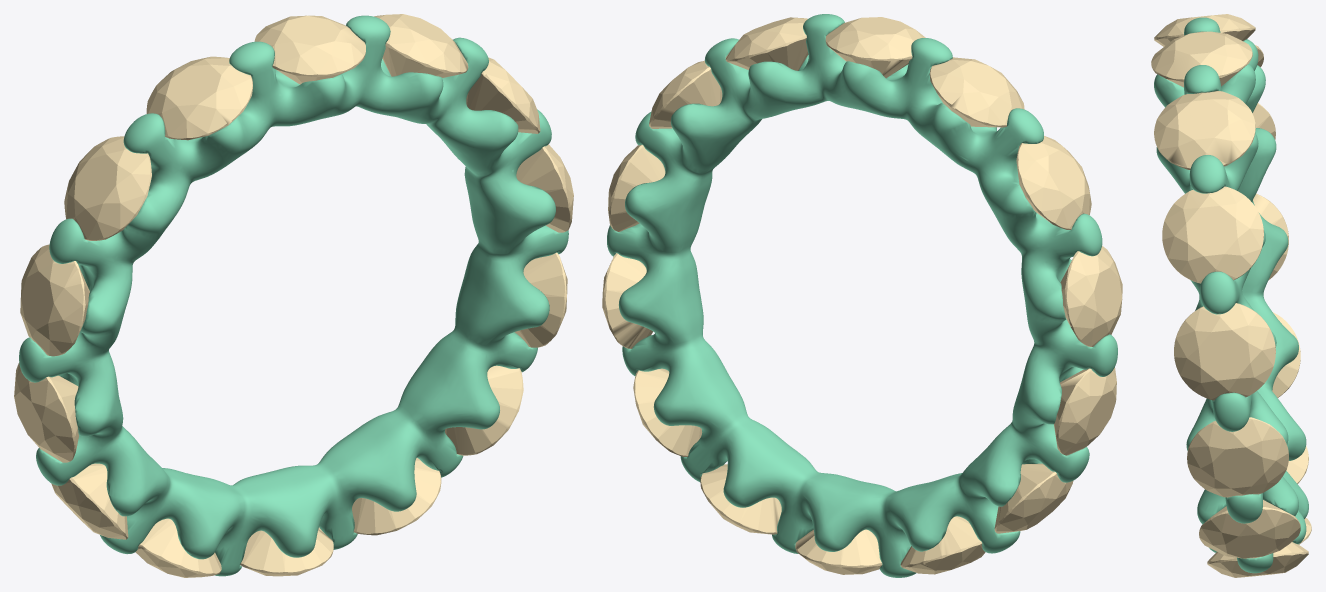
The picture shows the model from 3 angles, left to right: view 1: azimuth 30°, elevation 25°; view 2: azimuth 150°, elevation 25°; view 3: azimuth 270°, elevation 25°; orthographic projection. The views are drawn at different scales.
Visible parts, largest first — view 1: Metal02, Diamond_Round.001, Diamond_Round, Diamond_Round.002, Diamond_Round.013, Diamond_Round.003, Diamond_Round.012, Diamond_Round.004, Diamond_Round.011, Diamond_Round.008, Diamond_Round.007, Diamond_Round.009 (+3 smaller); view 2: Metal02, Diamond_Round.001, Diamond_Round.002, Diamond_Round, Diamond_Round.003, Diamond_Round.013, Diamond_Round.004, Diamond_Round.012, Diamond_Round.005, Diamond_Round.008, Diamond_Round.011, Diamond_Round.009 (+3 smaller); view 3: Metal02, Diamond_Round.010, Diamond_Round.011, Diamond_Round.009, Diamond_Round.012, Diamond_Round.008, Diamond_Round.013, Diamond_Round.007, Diamond_Round, Diamond_Round.003, Diamond_Round.004, Diamond_Round.005 (+1 smaller).
Boxes of the visible parts, x1,y1,x2,y2 form: Metal02: [19, 15, 568, 576]; Diamond_Round.001: [64, 136, 151, 240]; Diamond_Round: [146, 56, 252, 140]; Diamond_Round.002: [20, 244, 89, 356]; Diamond_Round.013: [254, 15, 365, 84]; Diamond_Round.003: [14, 362, 78, 462]; Diamond_Round.012: [374, 14, 468, 77]; Diamond_Round.004: [51, 463, 128, 539]; Diamond_Round.011: [466, 57, 540, 133]; Diamond_Round.008: [445, 365, 523, 455]; Diamond_Round.007: [352, 458, 441, 535]; Diamond_Round.009: [514, 252, 567, 347]; Metal02: [607, 14, 1117, 577]; Diamond_Round.001: [1016, 136, 1091, 229]; Diamond_Round.002: [1060, 246, 1122, 346]; Diamond_Round: [929, 57, 1024, 127]; Diamond_Round.003: [1054, 367, 1116, 455]; Diamond_Round.013: [825, 17, 925, 78]; Diamond_Round.004: [994, 463, 1073, 533]; Diamond_Round.012: [725, 17, 808, 70]; Diamond_Round.005: [900, 516, 985, 574]; Diamond_Round.008: [633, 368, 702, 456]; Diamond_Round.011: [649, 61, 722, 128]; Diamond_Round.009: [602, 253, 652, 348]; Metal02: [1154, 17, 1308, 573]; Diamond_Round.010: [1174, 303, 1275, 400]; Diamond_Round.011: [1162, 186, 1263, 283]; Diamond_Round.009: [1187, 417, 1288, 497]; Diamond_Round.012: [1154, 91, 1255, 169]; Diamond_Round.008: [1199, 500, 1300, 558]; Diamond_Round.013: [1151, 31, 1252, 87]; Diamond_Round.007: [1207, 542, 1308, 577]; Diamond_Round: [1154, 14, 1255, 46]; Diamond_Round.003: [1253, 193, 1288, 280]; Diamond_Round.004: [1272, 312, 1300, 397]; Diamond_Round.005: [1286, 446, 1308, 483].
Size of the model in its own units: 24.04 by 23.76 by 6.77.
